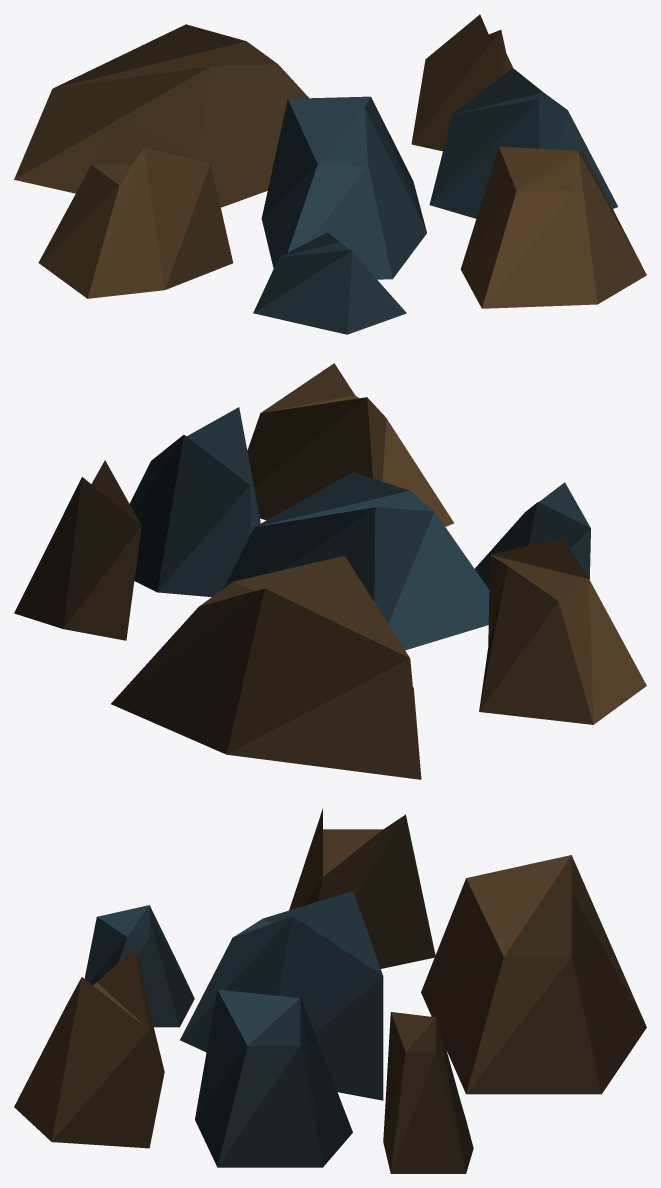
Rendered from runite-ore.obj.
3 renders of one model, top to bottom at view 1: azimuth 30°, elevation 25°; view 2: azimuth 150°, elevation 25°; view 3: azimuth 270°, elevation 25°, orthographic. The views are drawn at different scales.
Visible parts, largest first — view 1: Item Runite ore 2026-09-20_22-23-40; view 2: Item Runite ore 2026-09-20_22-23-40; view 3: Item Runite ore 2026-09-20_22-23-40.
Part boxes in pixels (<box>): Item Runite ore 2026-09-20_22-23-40: <box>14,14,646,334</box>; Item Runite ore 2026-09-20_22-23-40: <box>14,363,646,779</box>; Item Runite ore 2026-09-20_22-23-40: <box>14,808,646,1173</box>.
Size of the model in its own units: 83 by 20 by 84.
